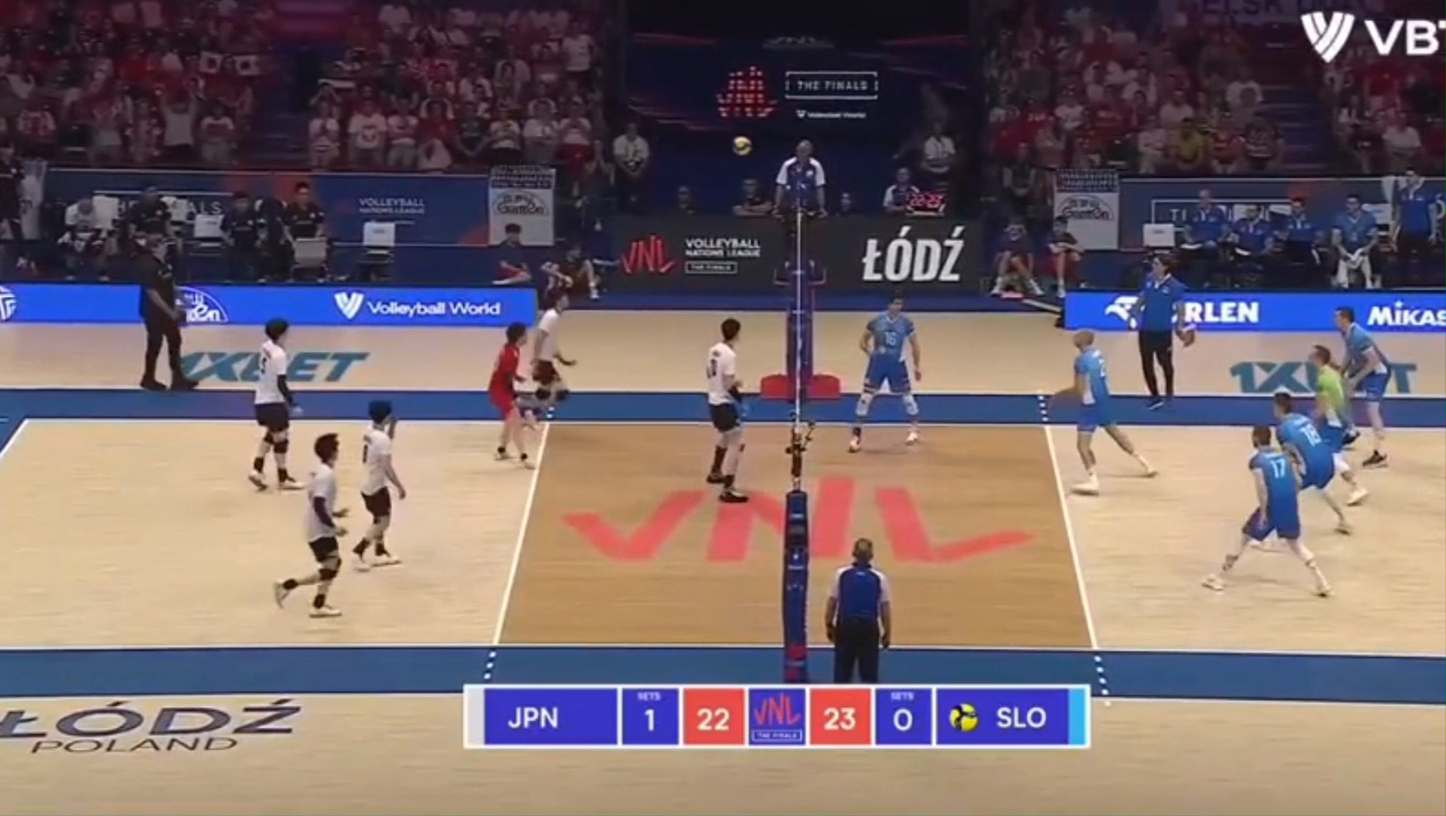ball: (732, 135, 752, 156)
player: (1204, 425, 1328, 596), (1056, 330, 1154, 494), (848, 294, 921, 452), (1274, 392, 1348, 530), (1336, 307, 1391, 466), (1309, 345, 1349, 433)
player 1: (273, 433, 346, 617), (353, 400, 406, 570), (248, 318, 299, 490), (704, 318, 748, 502), (488, 322, 530, 466), (531, 290, 574, 411)
referee: (131, 233, 196, 389), (1129, 256, 1192, 408), (825, 538, 891, 682), (774, 140, 829, 291)
